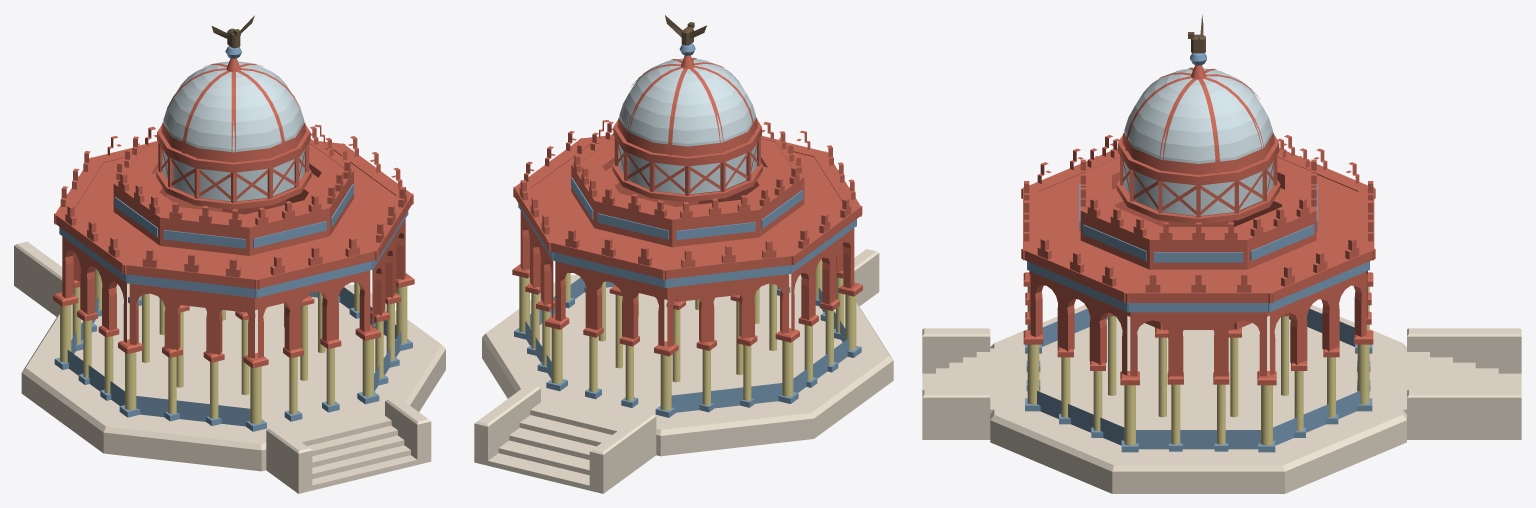
The model's file is mexico-city-kiosco-morisco.glb.
The picture shows the model from 3 angles, left to right: view 1: azimuth 30°, elevation 25°; view 2: azimuth 150°, elevation 25°; view 3: azimuth 270°, elevation 25°; orthographic projection. The views are drawn at different scales.
Visible parts, largest first — view 1: Kiosco Morisco; view 2: Kiosco Morisco; view 3: Kiosco Morisco.
Boxes of the visible parts, x1,y1,x2,y2 form: Kiosco Morisco: (14, 15, 445, 493); Kiosco Morisco: (474, 15, 893, 493); Kiosco Morisco: (922, 15, 1521, 493).
Size of the model in its own units: 19.59 by 19.75 by 28.19.
